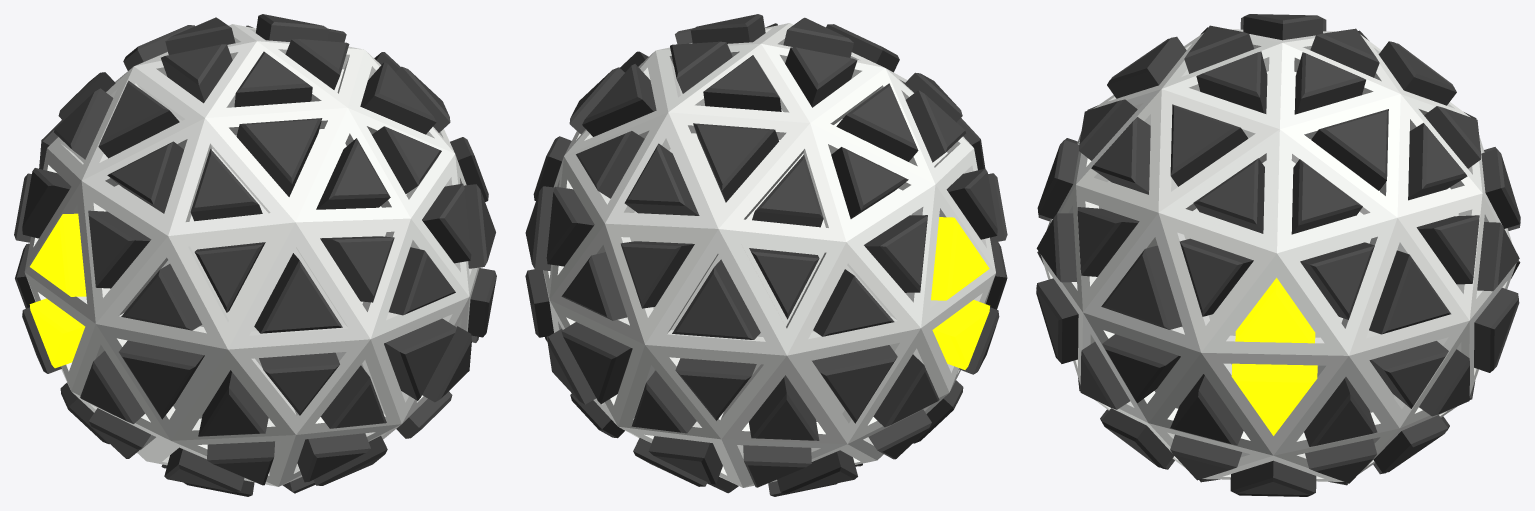
Rendered from Kyklos.fbx.
The picture shows the model from 3 angles, left to right: view 1: azimuth 30°, elevation 25°; view 2: azimuth 150°, elevation 25°; view 3: azimuth 270°, elevation 25°; orthographic projection.
Parts seen in each view (by area): view 1: Kyklos; view 2: Kyklos; view 3: Kyklos.
Boxes of the visible parts, bbox=[...] form: Kyklos: bbox=[14, 14, 496, 496]; Kyklos: bbox=[525, 14, 1007, 496]; Kyklos: bbox=[1036, 14, 1520, 496].
Size of the model in its own units: 1 by 1 by 1.
